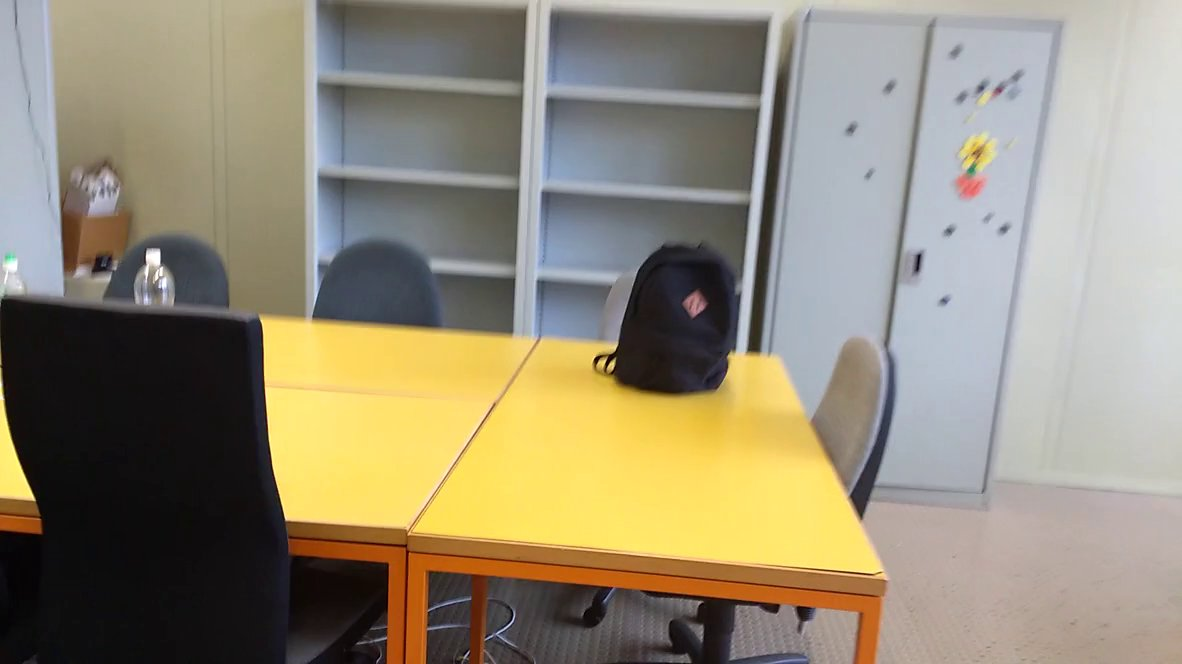bag: (593, 238, 743, 402)
chair: (1, 283, 308, 664), (783, 328, 904, 554), (91, 230, 264, 337), (309, 231, 463, 341)
